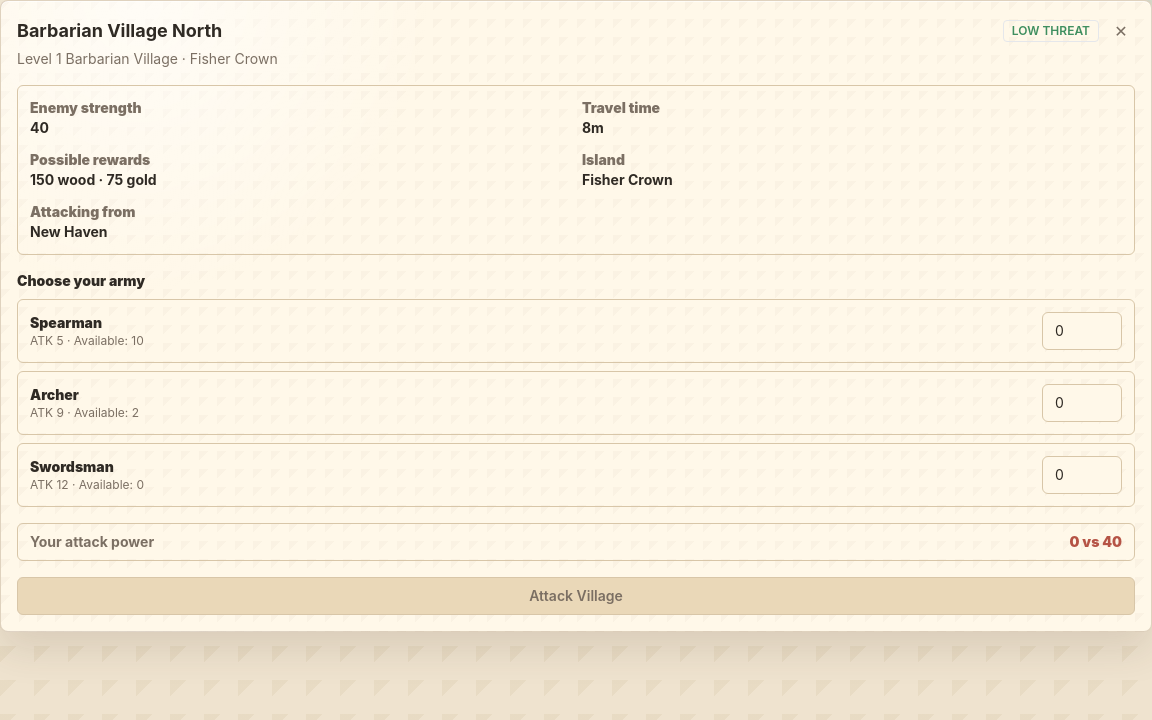
Test: PveCampDetailPanel › keeps the attack button disabled until units are selected
This screenshot has width=1152, height=720.
expect the button "Attack Village" is disabled: met, box [17, 577, 1135, 615]
Type "8" into the number field named "Spearman to send" at (1082, 331), box [1042, 312, 1122, 350]
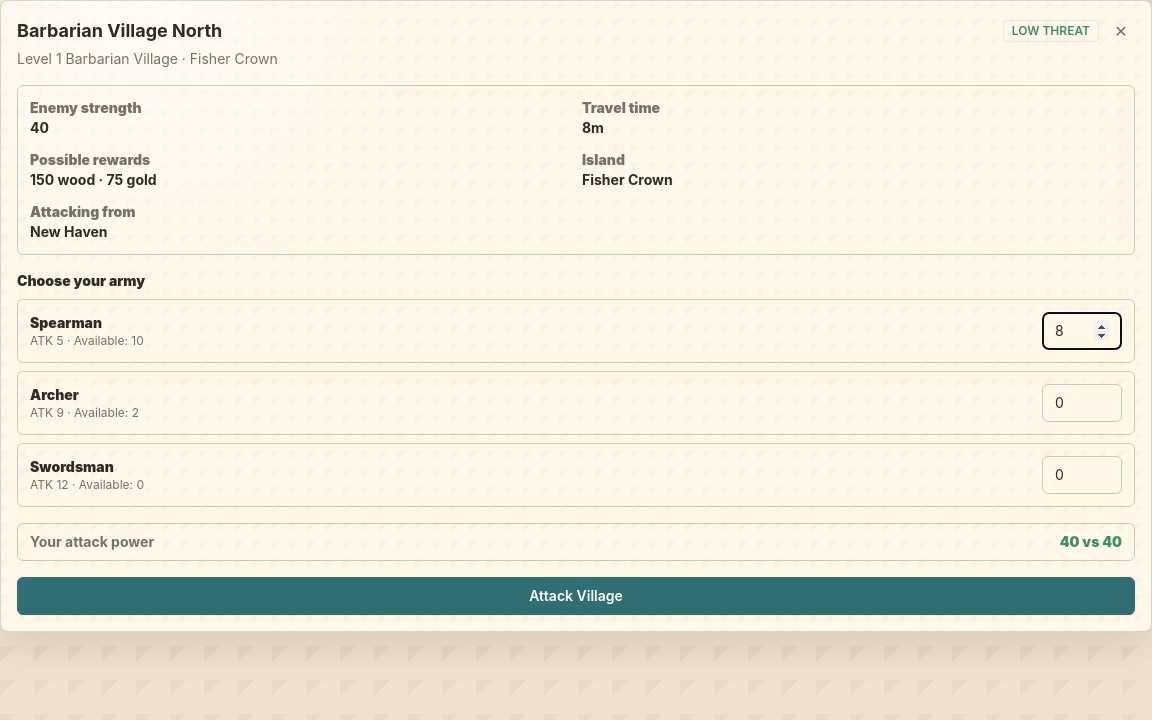
expect the button "Attack Village" is enabled: met, box [17, 577, 1135, 615]
